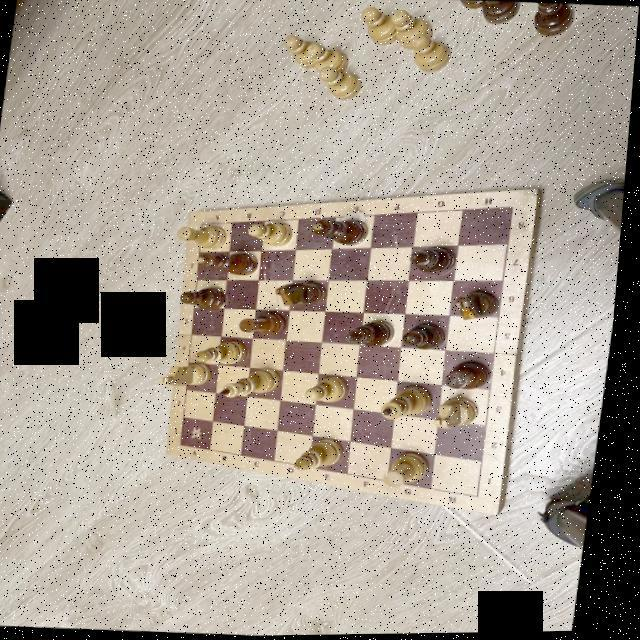chess-table-corners: (510, 206, 520, 213), (481, 494, 489, 502), (185, 442, 190, 448), (203, 222, 208, 228)
